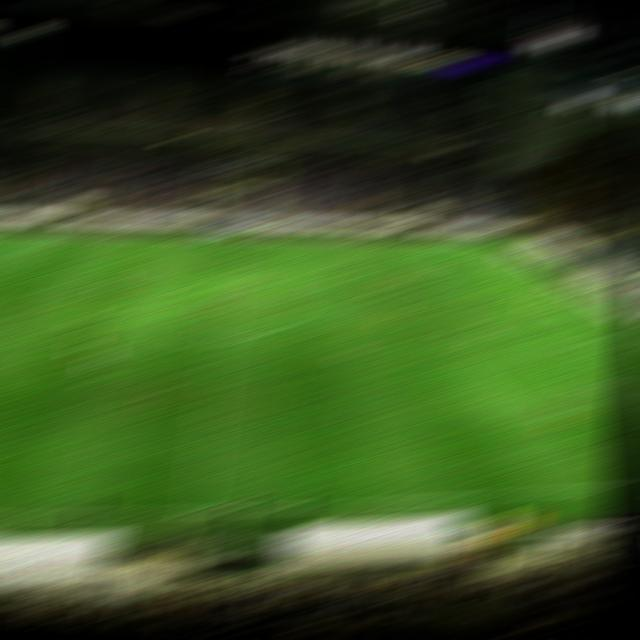bigarea_bottom_inner: (563, 382, 591, 390)
bigarea_top_inner: (432, 261, 461, 266), (0, 252, 13, 258)
bigarea_top_outter: (517, 259, 546, 267)
bottom_arc_area_intersection: (504, 327, 533, 334)
corner: (483, 239, 513, 248)
halfcircle_bottom: (204, 336, 234, 344)
halfcircle_top: (212, 279, 240, 287)
midline_bottom_intersection: (180, 505, 212, 516)
midline_top_intersection: (218, 234, 247, 242)
smallarea_bottom_inner: (591, 332, 620, 340)
smallarea_top_inner: (522, 280, 551, 289)
smallarea_top_outter: (550, 280, 580, 287)
top_arc_area_intersection: (460, 285, 488, 293)
